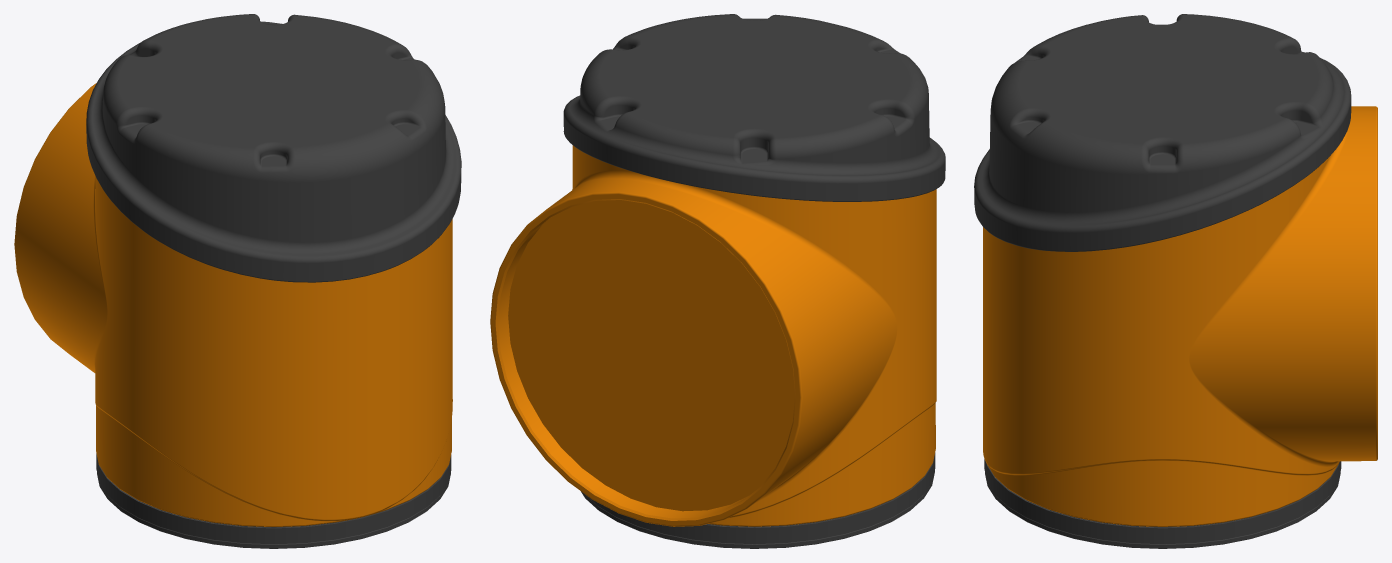
3 views of the same model, side by side, from view 1: azimuth 30°, elevation 25°; view 2: azimuth 150°, elevation 25°; view 3: azimuth 270°, elevation 25° (orthographic).
Parts seen in each view (by area): view 1: FBXASC195FBXASC135FBXASC195FBXASC144FBXASC194FBXASC179FBXASC; view 2: FBXASC195FBXASC135FBXASC195FBXASC144FBXASC194FBXASC179FBXASC; view 3: FBXASC195FBXASC135FBXASC195FBXASC144FBXASC194FBXASC179FBXASC.
Boxes of the visible parts, x1,y1,x2,y2 form: FBXASC195FBXASC135FBXASC195FBXASC144FBXASC194FBXASC179FBXASC: (14, 14, 461, 548); FBXASC195FBXASC135FBXASC195FBXASC144FBXASC194FBXASC179FBXASC: (490, 14, 945, 548); FBXASC195FBXASC135FBXASC195FBXASC144FBXASC194FBXASC179FBXASC: (974, 14, 1377, 548).
Size of the model in its own units: 0.193 by 0.2065 by 0.2243.
